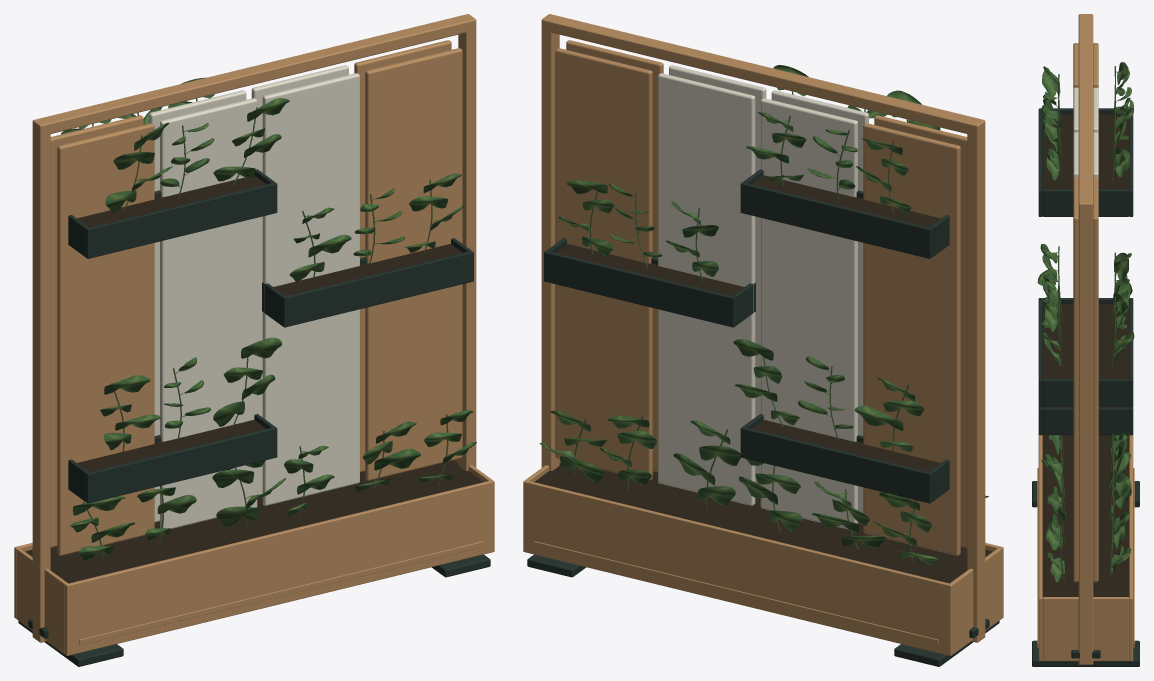
Rendered from botanicalDivider-6.glb.
3 views of the same model, side by side, from view 1: azimuth 30°, elevation 25°; view 2: azimuth 150°, elevation 25°; view 3: azimuth 270°, elevation 25° (orthographic). The views are drawn at different scales.
Parts seen in each view (by area): view 1: Botanical_frame_finish, Botanical_ceramic, Botanical_powdercoat, Botanical_recessed_soil, Botanical_living_foliage, Botanical_connected_stems; view 2: Botanical_frame_finish, Botanical_ceramic, Botanical_powdercoat, Botanical_living_foliage, Botanical_recessed_soil, Botanical_connected_stems; view 3: Botanical_frame_finish, Botanical_recessed_soil, Botanical_powdercoat, Botanical_living_foliage, Botanical_connected_stems, Botanical_ceramic, Botanical_leaf_midribs.
Part boxes in pixels (bbox=[...]): Botanical_frame_finish: bbox=[14, 14, 494, 655]; Botanical_ceramic: bbox=[149, 65, 359, 528]; Botanical_powdercoat: bbox=[18, 169, 490, 666]; Botanical_recessed_soil: bbox=[25, 175, 483, 583]; Botanical_living_foliage: bbox=[61, 77, 476, 560]; Botanical_connected_stems: bbox=[82, 98, 450, 559]; Botanical_frame_finish: bbox=[523, 14, 1003, 655]; Botanical_ceramic: bbox=[658, 65, 868, 529]; Botanical_powdercoat: bbox=[527, 169, 999, 666]; Botanical_living_foliage: bbox=[539, 65, 988, 565]; Botanical_recessed_soil: bbox=[534, 175, 992, 583]; Botanical_connected_stems: bbox=[570, 91, 916, 561]; Botanical_frame_finish: bbox=[1037, 14, 1134, 664]; Botanical_recessed_soil: bbox=[1042, 114, 1129, 597]; Botanical_powdercoat: bbox=[1032, 108, 1139, 666]; Botanical_living_foliage: bbox=[1037, 62, 1134, 581]; Botanical_connected_stems: bbox=[1056, 66, 1117, 584]; Botanical_ceramic: bbox=[1073, 87, 1098, 177]; Botanical_leaf_midribs: bbox=[1042, 70, 1134, 571].
Bounding box in the file's own units: 2 × 2.3 × 0.48.
